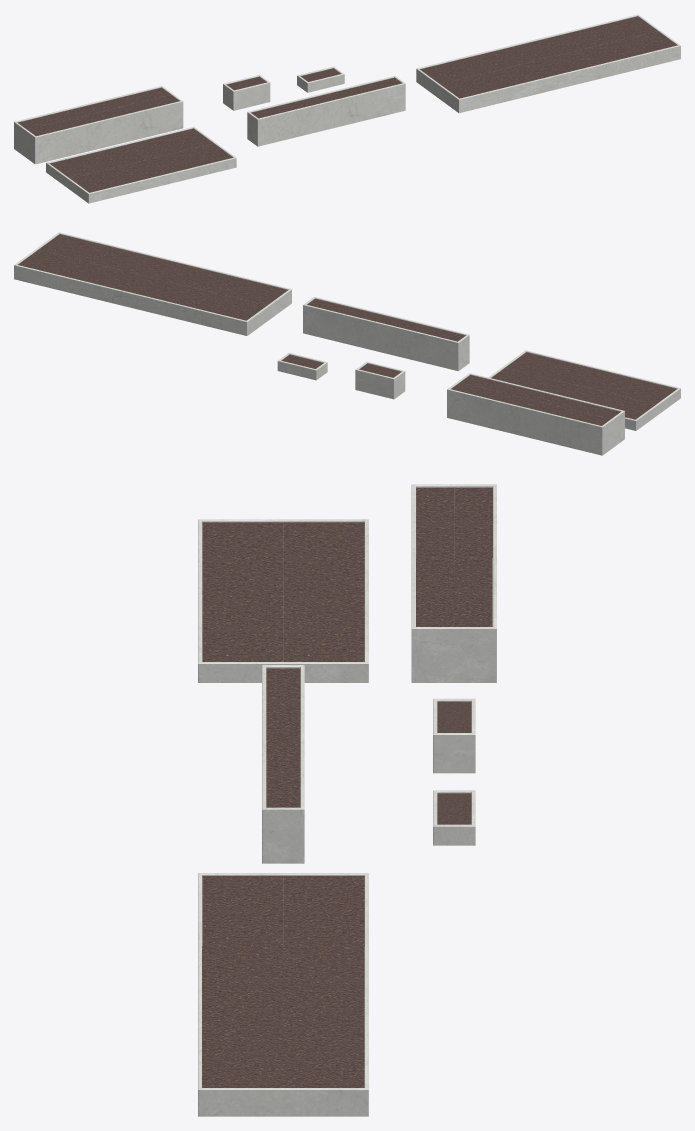
The model's file is mv_stone boxes.fbx.
3 renders of one model, top to bottom at view 1: azimuth 30°, elevation 25°; view 2: azimuth 150°, elevation 25°; view 3: azimuth 270°, elevation 25°, orthographic. The views are drawn at different scales.
Parts seen in each view (by area): view 1: XL stonebox, stonebox large, stonebox medium, stonebox long, stonebox high, stonebox low; view 2: XL stonebox, stonebox medium, stonebox long, stonebox large, stonebox high, stonebox low; view 3: XL stonebox, stonebox large, stonebox medium, stonebox long, stonebox high, stonebox low.
Part boxes in pixels (x1,y1,x2,y2): XL stonebox: (416,14,680,113); stonebox large: (46,126,236,203); stonebox medium: (14,86,183,164); stonebox long: (247,76,405,146); stonebox high: (223,75,270,110); stonebox low: (297,66,344,92); XL stonebox: (14,232,291,335); stonebox medium: (447,373,624,455); stonebox long: (303,297,469,371); stonebox large: (488,350,680,430); stonebox high: (355,361,405,399); stonebox low: (277,353,327,380); XL stonebox: (198,873,368,1116); stonebox large: (198,519,368,682); stonebox medium: (411,484,496,682); stonebox long: (262,665,304,863); stonebox high: (433,698,475,773); stonebox low: (433,790,475,845).
Size of the model in its own units: 1600 by 70 by 350.
